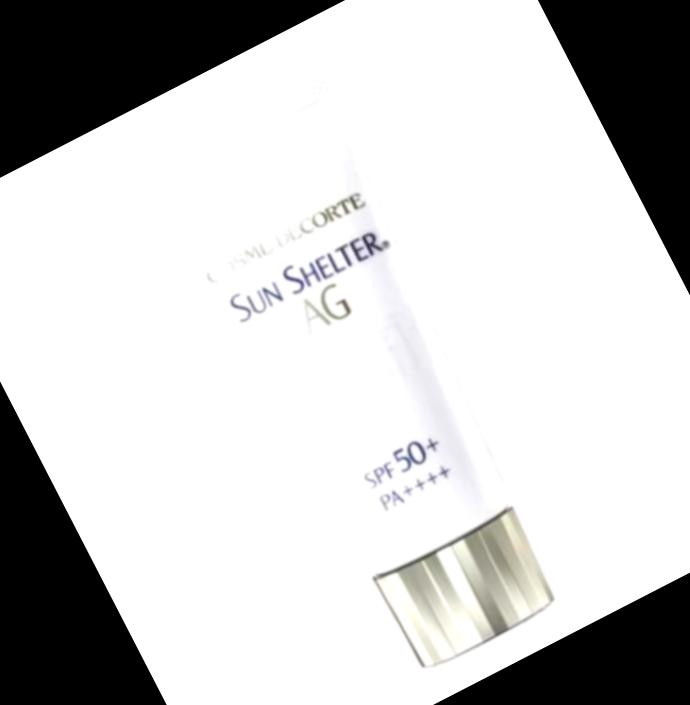cosmetic: (126, 68, 591, 690)
